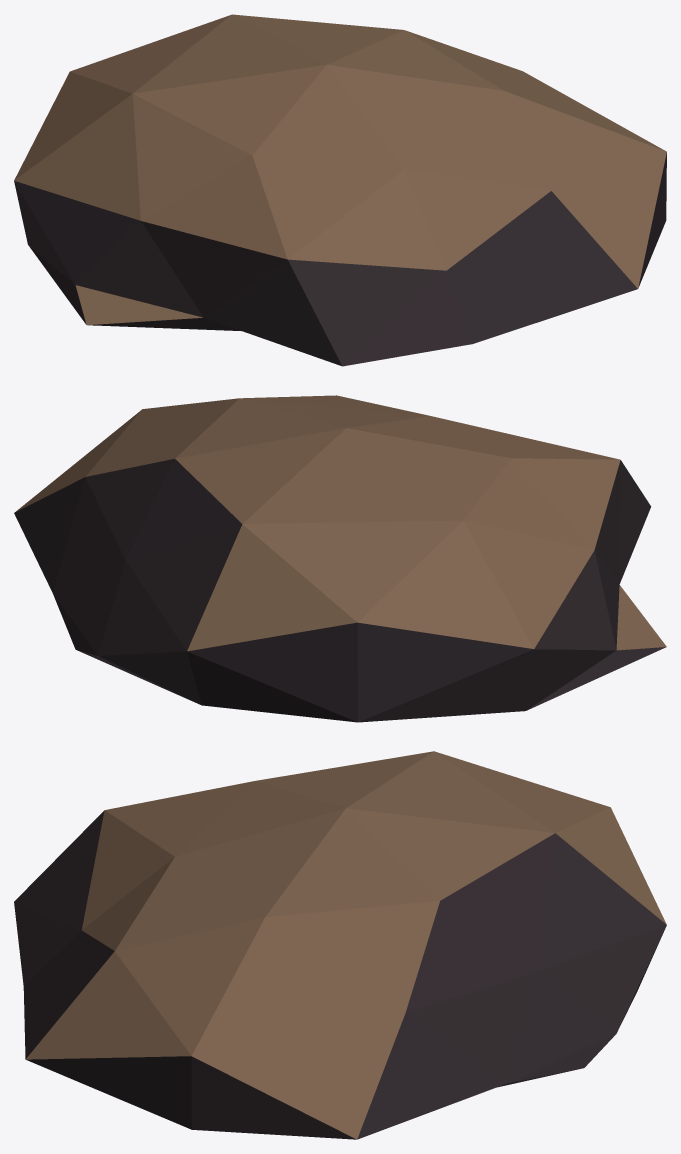
The model's file is boulder_l3.glb.
The picture shows the model from 3 angles, top to bottom: view 1: azimuth 30°, elevation 25°; view 2: azimuth 150°, elevation 25°; view 3: azimuth 270°, elevation 25°; orthographic projection. The views are drawn at different scales.
Visible parts, largest first — view 1: body__M_Cliff_Crust_T0, body__M_Cliff_Licorice; view 2: body__M_Cliff_Crust_T0, body__M_Cliff_Licorice; view 3: body__M_Cliff_Crust_T0, body__M_Cliff_Licorice.
Boxes of the visible parts, x1,y1,x2,y2 form: body__M_Cliff_Crust_T0: [14, 14, 666, 325]; body__M_Cliff_Licorice: [14, 152, 666, 366]; body__M_Cliff_Crust_T0: [15, 395, 666, 651]; body__M_Cliff_Licorice: [14, 458, 666, 722]; body__M_Cliff_Crust_T0: [26, 751, 666, 1139]; body__M_Cliff_Licorice: [14, 810, 666, 1139].
Bounding box in the file's own units: 0.8921 × 0.2439 × 0.7968.
